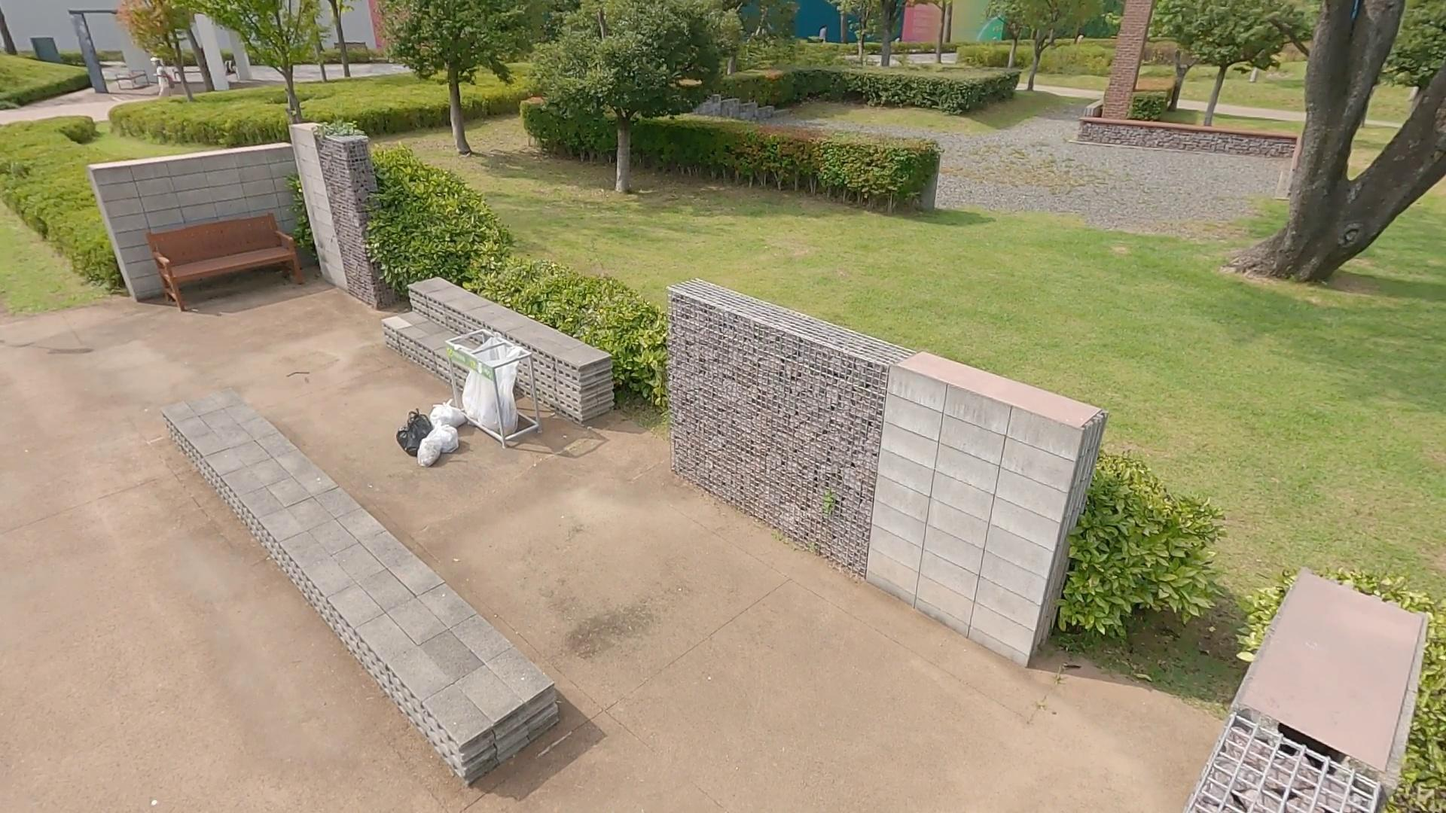trash: (422, 417, 463, 453), (426, 397, 468, 429), (404, 408, 436, 441), (392, 430, 428, 458), (413, 437, 442, 467)
